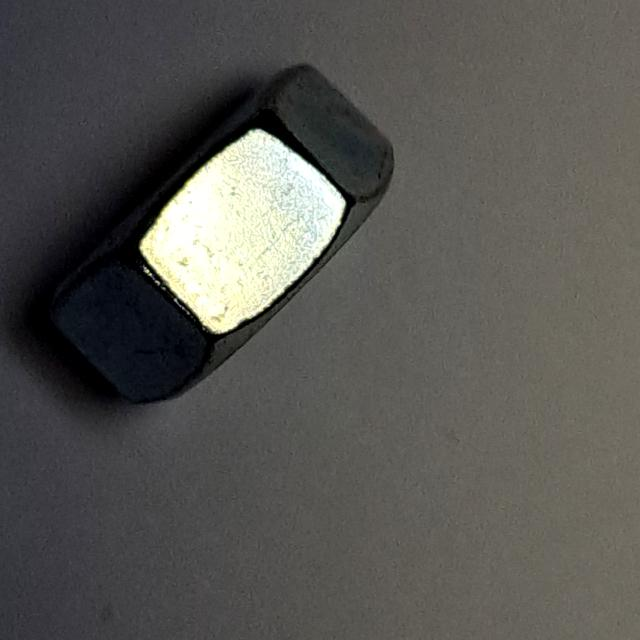Side_Excellent: (23, 49, 424, 429)
